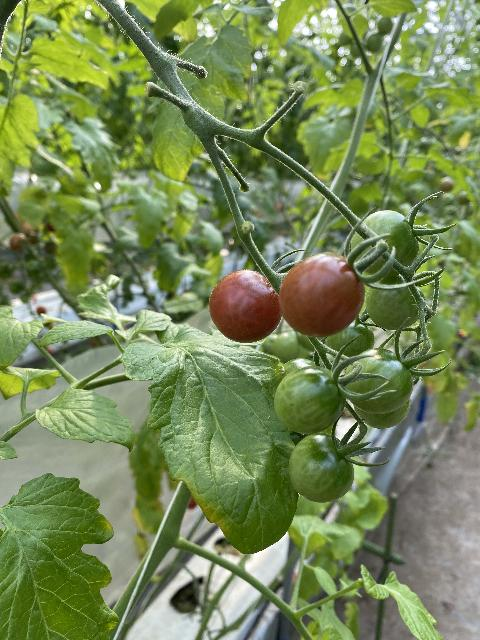l_fully_ripened: (208, 268, 283, 343)
l_green: (274, 365, 346, 436), (349, 209, 420, 278), (345, 346, 414, 414), (288, 433, 355, 503), (366, 272, 426, 331), (326, 318, 375, 364), (355, 396, 411, 430)
l_half_ripened: (279, 253, 365, 338)
